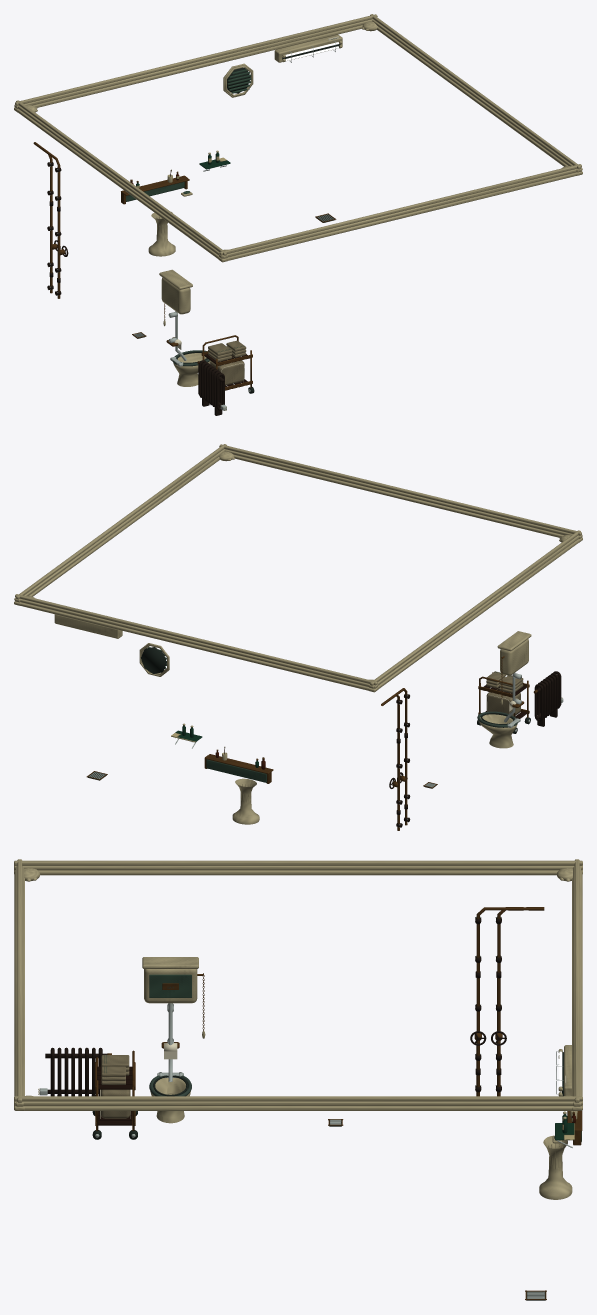
Rendered from dressing.glb.
3 renders of one model, top to bottom at view 1: azimuth 30°, elevation 25°; view 2: azimuth 150°, elevation 25°; view 3: azimuth 270°, elevation 25°, orthographic. The views are drawn at different scales.
Parts seen in each view (by area): view 1: Dressing_ivory_glaze, Dressing_aged_brass, Dressing_rusted_iron, Dressing_cotton, Dressing_jade_glaze, Dressing_shadow, Dressing_nickel; view 2: Dressing_ivory_glaze, Dressing_aged_brass, Dressing_rusted_iron, Dressing_cotton, Dressing_shadow, Dressing_jade_glaze, Dressing_nickel; view 3: Dressing_ivory_glaze, Dressing_aged_brass, Dressing_rusted_iron, Dressing_cotton, Dressing_jade_glaze, Dressing_nickel, Dressing_walnut.
Part boxes in pixels (bbox=[...]): Dressing_ivory_glaze: bbox=[14, 14, 582, 410]; Dressing_aged_brass: bbox=[33, 142, 336, 390]; Dressing_rusted_iron: bbox=[47, 162, 224, 415]; Dressing_cotton: bbox=[171, 169, 246, 385]; Dressing_jade_glaze: bbox=[126, 69, 251, 351]; Dressing_shadow: bbox=[133, 44, 340, 393]; Dressing_nickel: bbox=[48, 40, 335, 410]; Dressing_ivory_glaze: bbox=[14, 444, 582, 824]; Dressing_aged_brass: bbox=[86, 656, 537, 830]; Dressing_rusted_iron: bbox=[389, 671, 561, 827]; Dressing_cotton: bbox=[224, 671, 523, 747]; Dressing_shadow: bbox=[88, 647, 530, 788]; Dressing_jade_glaze: bbox=[148, 647, 511, 782]; Dressing_nickel: bbox=[89, 672, 563, 827]; Dressing_ivory_glaze: bbox=[14, 859, 582, 1199]; Dressing_aged_brass: bbox=[95, 907, 582, 1300]; Dressing_rusted_iron: bbox=[45, 917, 506, 1096]; Dressing_cotton: bbox=[100, 1055, 130, 1118]; Dressing_jade_glaze: bbox=[104, 974, 581, 1141]; Dressing_nickel: bbox=[39, 917, 572, 1298]; Dressing_walnut: bbox=[97, 1066, 573, 1125].
Bounding box in the file's own units: 6.9 × 3.24 × 6.9.
Materials: 13 (8 with a texture image).
